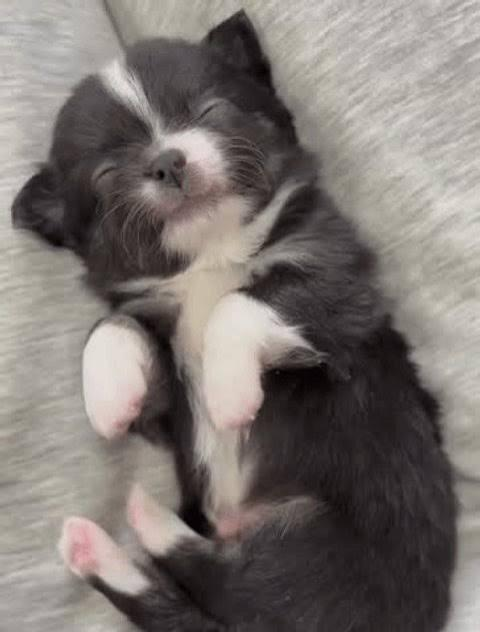puppy-dog: (10, 10, 462, 632)
